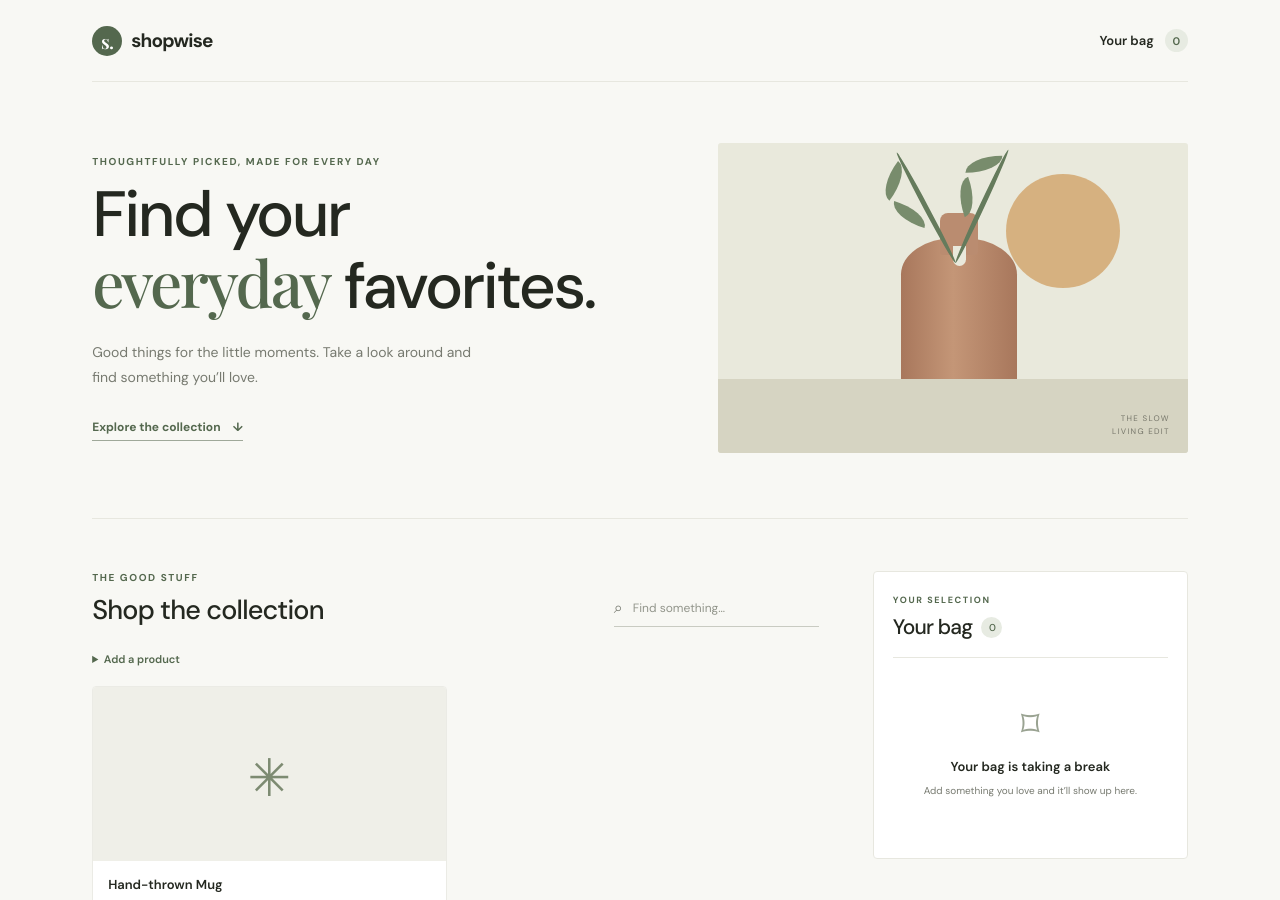
shopping experience › filters the server-loaded products by name
Type "backpack" into the search field named "Search products by name" at coordinates (725, 608), box [631,598,819,616]
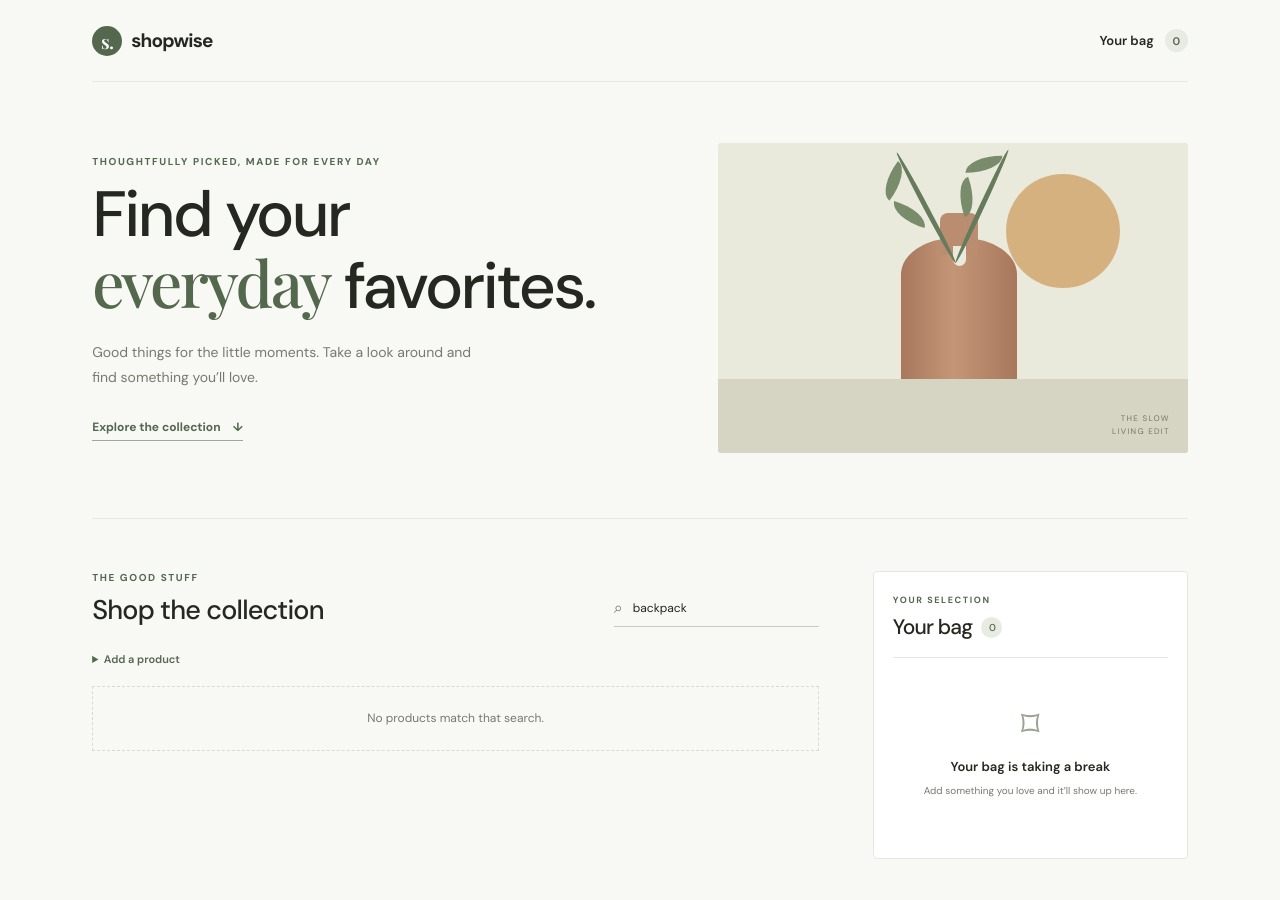
Expected: no headings "Hand-thrown Mug" are shown
Expected: the text "No products match that search." is shown, [92,686,819,751]
